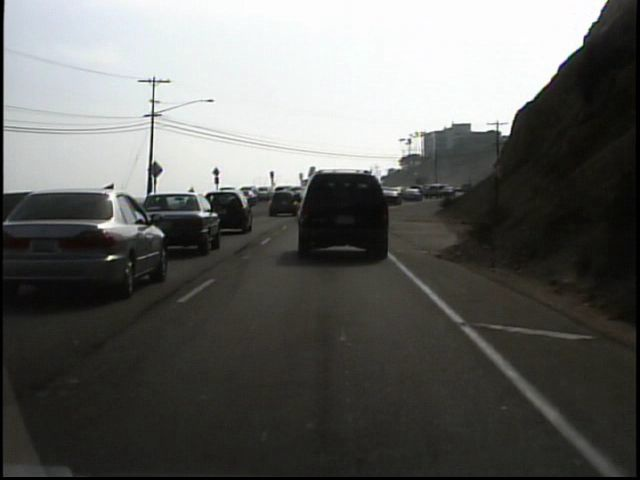person: (185, 182, 198, 193)
